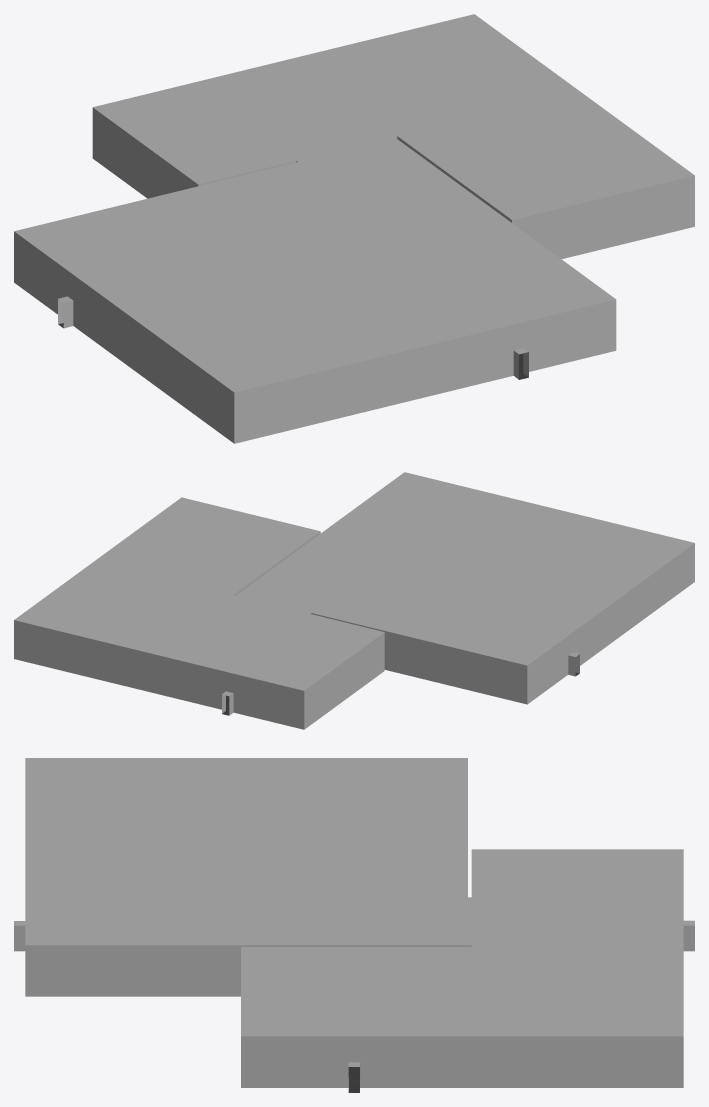
The model's file is roomtext.fbx.
3 views of the same model, one above another, from view 1: azimuth 30°, elevation 25°; view 2: azimuth 150°, elevation 25°; view 3: azimuth 270°, elevation 25° (orthographic). The views are drawn at different scales.
Parts seen in each view (by area): view 1: weaponslab; view 2: weaponslab; view 3: weaponslab.
Part boxes in pixels (x1=…): weaponslab: x1=14, y1=14, x2=694, y2=443; weaponslab: x1=14, y1=472, x2=694, y2=729; weaponslab: x1=14, y1=758, x2=694, y2=1092.
Size of the model in its own units: 5997 by 502 by 5996.
